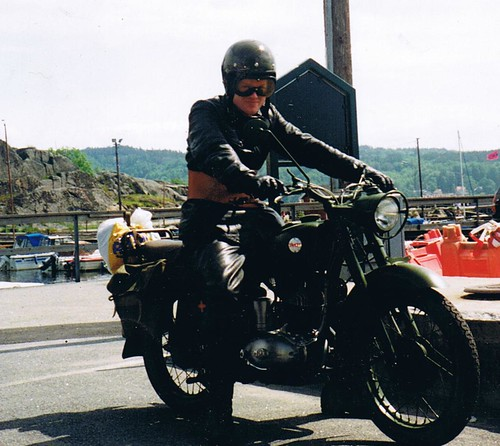helmet: (216, 27, 281, 74)
